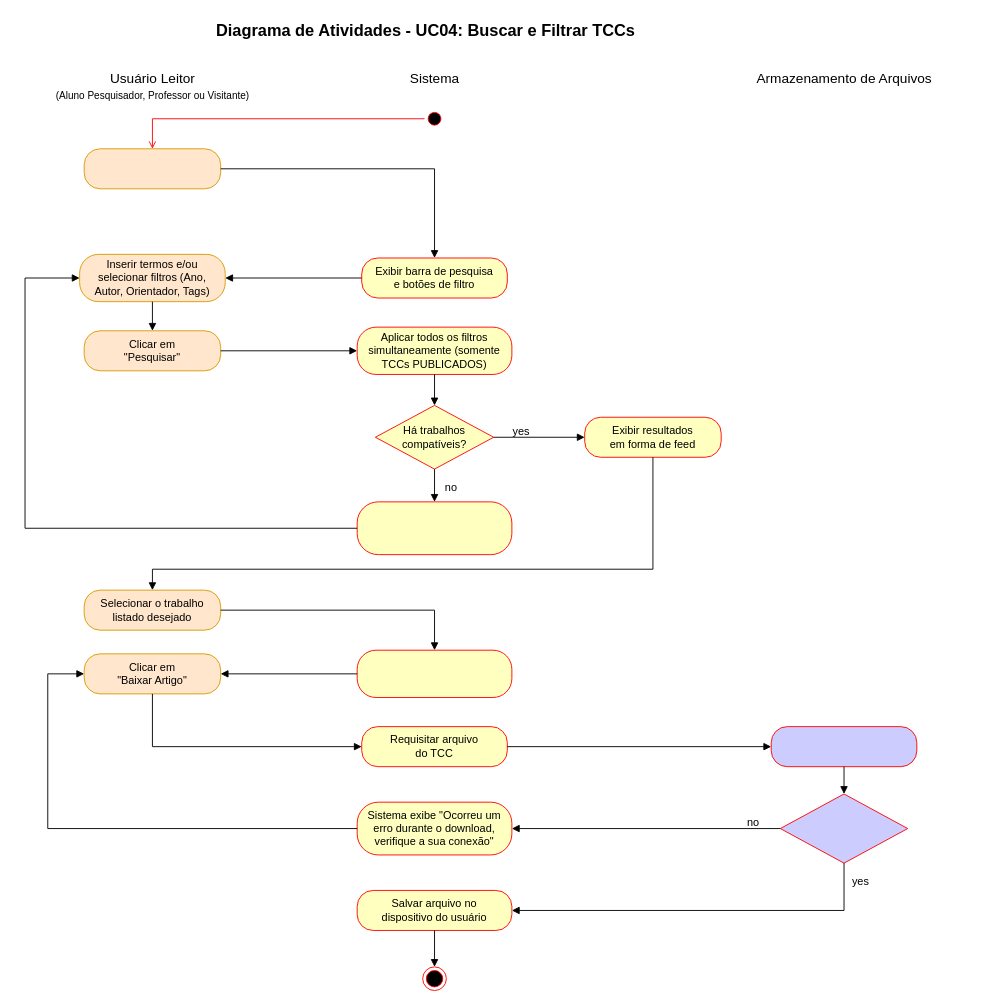
The diagram is 996 pixels wide and 1006 high, and some of its shapes have lost their labels. The shapes that lost their labels are listed below. From the top down, each one's centre as x and y in pixels, then its label:
(x=152, y=168): Selecionar a opção "Buscar TCC"
(x=434, y=528): Sistema exibe "Nenhum trabalho encontrado para os critérios informados"
(x=434, y=673): Exibir detalhes do TCC (resumo, imagens, tags e trabalhos conexos)
(x=843, y=746): Transferir arquivo (DOCX, PDF ou EPUB)
(x=843, y=828): Transferência concluída?
